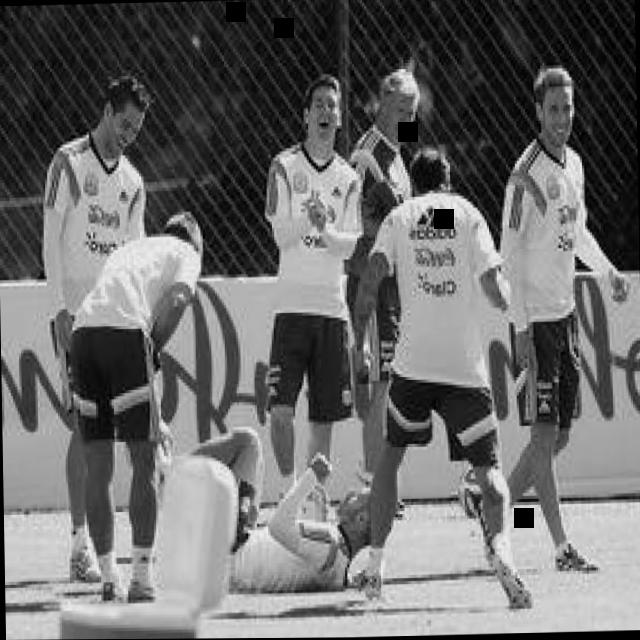Fall-Detected: (142, 402, 392, 606)
